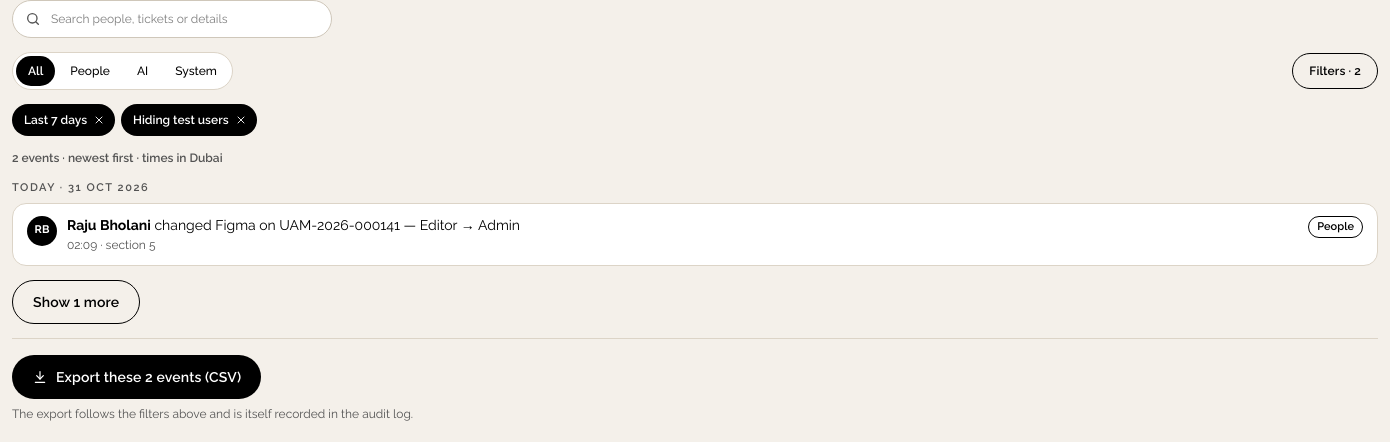
Test case: AuditLog › Show more adds the next page
What coordinates should you click on to do the following:
click the button "Show 1 more"
I would click on:
 (76, 302)
Its box is x1=12 y1=280 x2=140 y2=324.
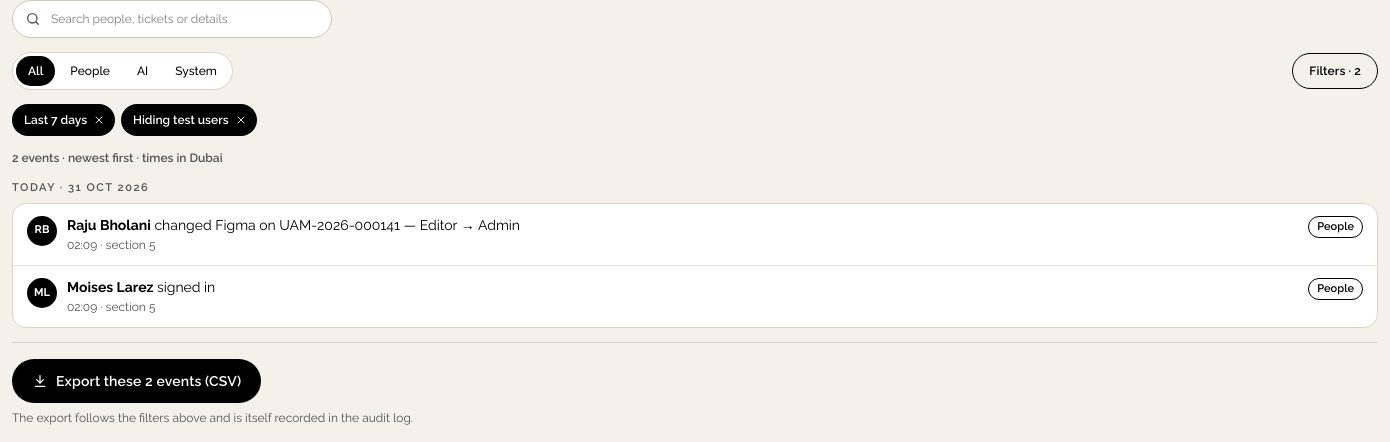
Expected: the button "ML Moises Larez signed in 02:09 · section 5 People" is shown, x1=13 y1=266 x2=1377 y2=327
Expected: the button "more" is gone
